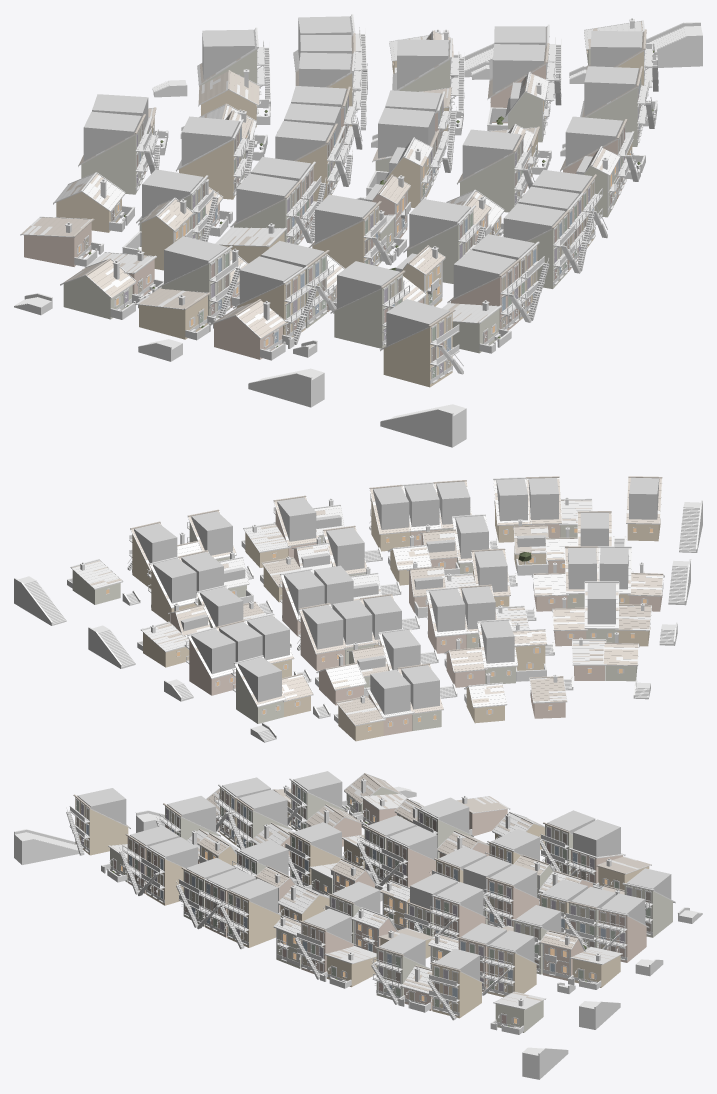
File: bld_moradas_SE.glb
The picture shows the model from 3 angles, top to bottom: view 1: azimuth 30°, elevation 25°; view 2: azimuth 150°, elevation 25°; view 3: azimuth 270°, elevation 25°; orthographic projection. The views are drawn at different scales.
Parts seen in each view (by area): view 1: Morada_SE_054_Body, Morada_SE_042_Body, Morada_SE_003_Body, STAIRS_Terrace_Lateral_Morada_SE_28, Morada_SE_048_Body, Morada_SE_011_Body, Morada_SE_032_Body, Morada_SE_036_InteriorVolume, Morada_SE_001_Body, Morada_SE_028_Body, Morada_SE_016_Body, Morada_SE_006_Body (+76 smaller); view 2: Morada_SE_004_InteriorVolume, STAIRS_Terrace_Lateral_Morada_SE_32, Morada_SE_053_InteriorVolume, Morada_SE_024_InteriorVolume, Morada_SE_027_InteriorVolume, Morada_SE_015_InteriorVolume, Morada_SE_062_InteriorVolume, Morada_SE_064_InteriorVolume, Morada_SE_060_InteriorVolume, Morada_SE_021_InteriorVolume, Morada_SE_048_InteriorVolume, Morada_SE_009_InteriorVolume (+91 smaller); view 3: Morada_SE_054_Body, Morada_SE_060_Body, Morada_SE_066_Body, STAIRS_Terrace_Lateral_Morada_SE_28, Morada_SE_053_Body, Morada_SE_027_Body, Morada_SE_004_InteriorVolume, Morada_SE_021_Body, Morada_SE_057_Body, Morada_SE_024_Body, Morada_SE_062_Body, Morada_SE_064_Body (+80 smaller).
Part boxes in pixels (x1,y1,x2,y2): Morada_SE_054_Body: (383,313,463,387); Morada_SE_042_Body: (334,274,409,348); Morada_SE_003_Body: (81,125,157,194); STAIRS_Terrace_Lateral_Morada_SE_28: (380,404,466,447); Morada_SE_048_Body: (460,143,534,212); Morada_SE_011_Body: (179,130,254,199); Morada_SE_032_Body: (312,205,391,268); Morada_SE_036_InteriorVolume: (378,108,434,158); Morada_SE_001_Body: (24,222,103,266); Morada_SE_028_Body: (214,316,294,360); Morada_SE_016_Body: (139,296,219,340); Morada_SE_006_Body: (63,276,144,319); Morada_SE_004_InteriorVolume: (370,669,410,714); STAIRS_Terrace_Lateral_Morada_SE_32: (14,576,66,625); Morada_SE_053_InteriorVolume: (153,558,196,603); Morada_SE_024_InteriorVolume: (302,604,343,649); Morada_SE_027_InteriorVolume: (191,629,235,674); Morada_SE_015_InteriorVolume: (238,657,281,702); Morada_SE_062_InteriorVolume: (277,497,316,541); Morada_SE_064_InteriorVolume: (191,511,232,555); Morada_SE_060_InteriorVolume: (373,486,409,529); Morada_SE_021_InteriorVolume: (429,588,465,632); Morada_SE_048_InteriorVolume: (326,527,364,570); Morada_SE_009_InteriorVolume: (480,620,514,663); Morada_SE_054_Body: (66,797,128,855); Morada_SE_060_Body: (220,891,280,949); Morada_SE_066_Body: (427,964,481,1020); STAIRS_Terrace_Lateral_Morada_SE_28: (14,829,79,864); Morada_SE_053_Body: (482,946,536,997); Morada_SE_027_Body: (595,910,646,962); Morada_SE_004_InteriorVolume: (573,819,620,856); Morada_SE_021_Body: (378,838,435,887); Morada_SE_057_Body: (138,848,183,905); Morada_SE_024_Body: (483,879,539,927); Morada_SE_062_Body: (295,923,353,979); Morada_SE_064_Body: (371,948,427,1004).
Size of what is drawn, in the model's own units: 128 by 14.96 by 128.
Materials: 23 (19 with a texture image).
